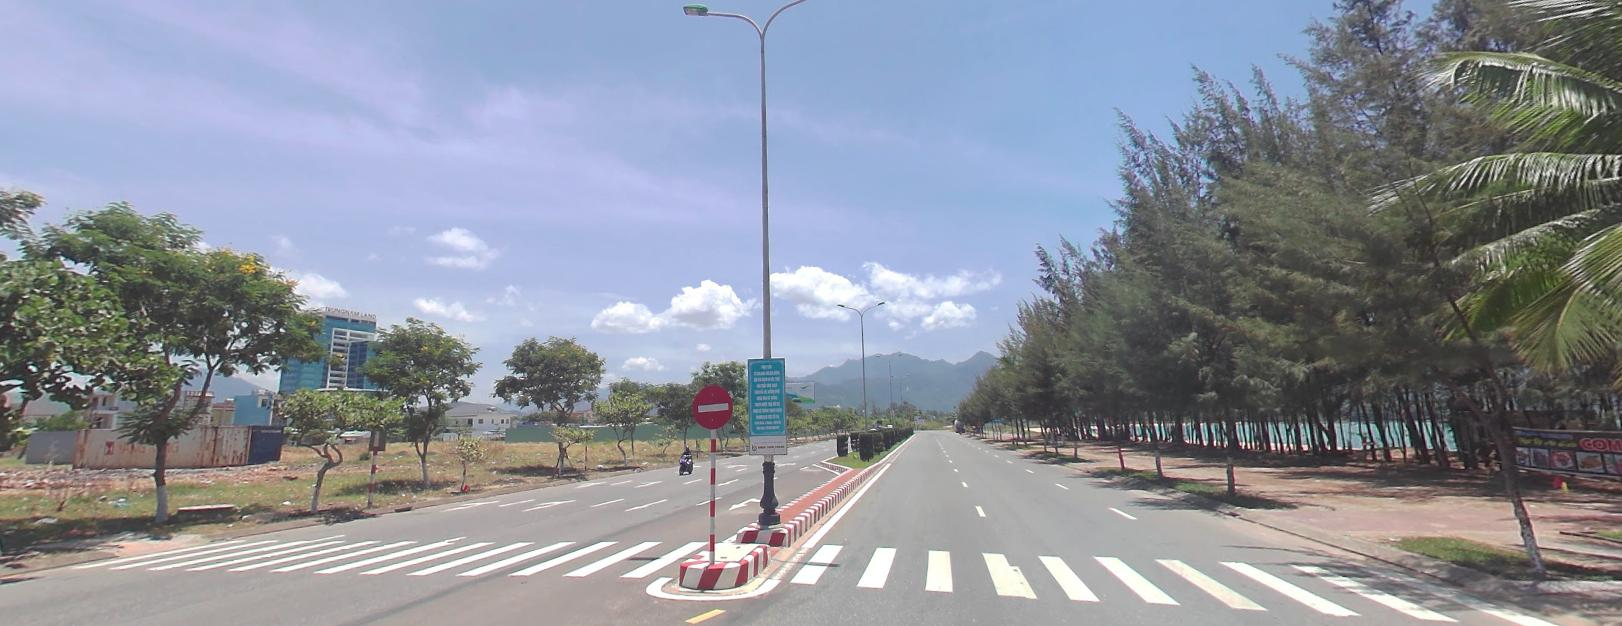Cam nguoc chieu: (688, 382, 734, 427), (692, 385, 732, 426), (693, 385, 731, 427)
